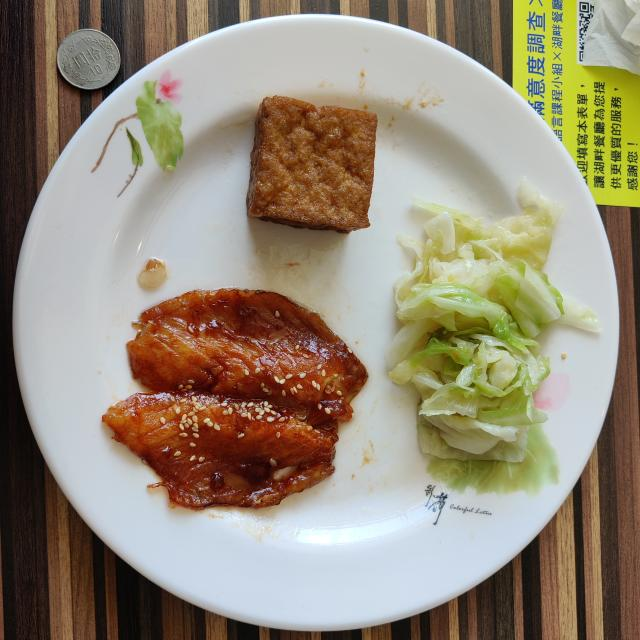Kabayaki sea bream fillet: (102, 289, 368, 509)
cabbage: (385, 181, 601, 464)
coin: (58, 29, 120, 90)
egg tofu: (246, 96, 378, 234)
